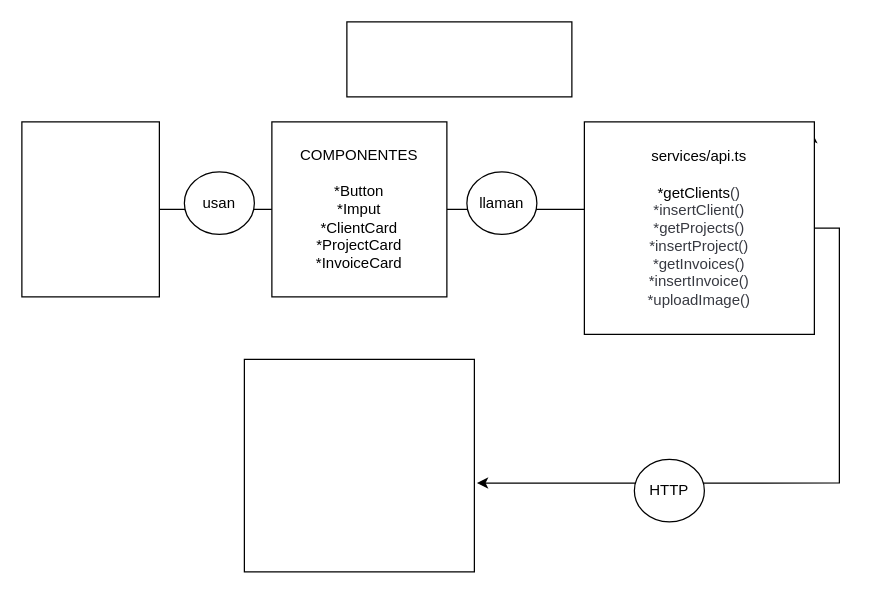
Image size: 871x594. Some labels were removed from this diagram. Each missing label, with the centre of its shape:
"PANTALLAS *Clientes *Proyectos *Facturas *Dashboard" belongs at (90,209).
"SUPABASE PostgreSQL + Storage clientes → proyectos ↓ facturas" belongs at (358,465).
"WorkPad - Arquitectura" belongs at (459,59).
